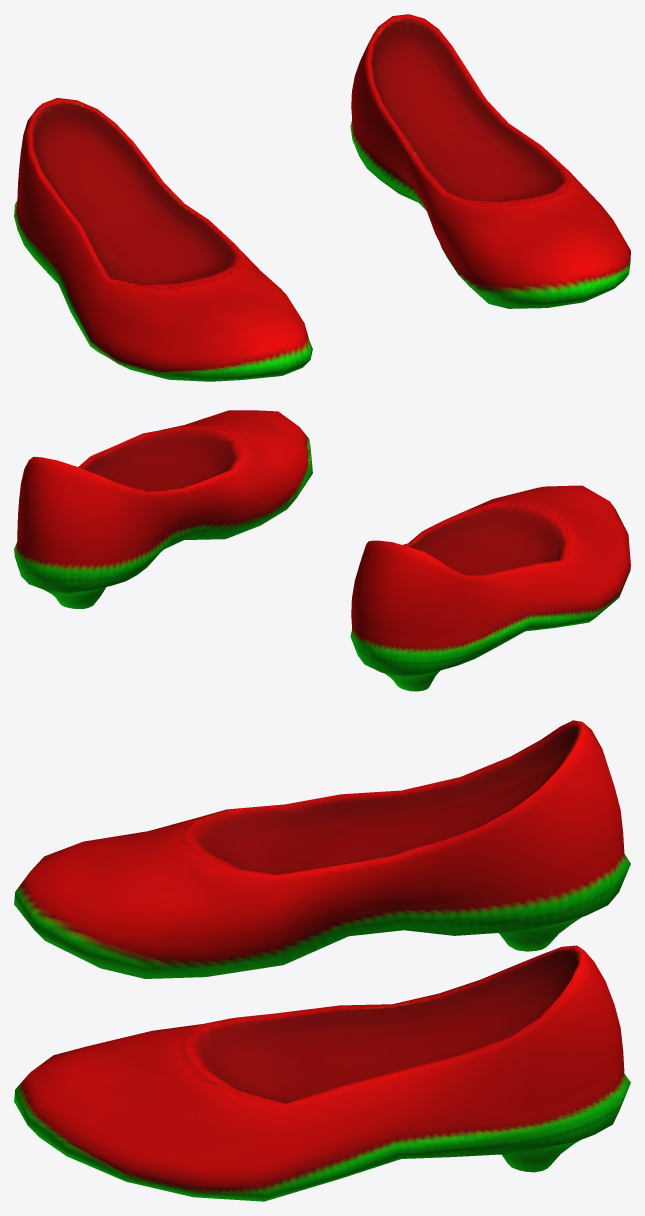
File: Feet_OfficeHeels.obj
3 views of the same model, one above another, from view 1: azimuth 30°, elevation 25°; view 2: azimuth 150°, elevation 25°; view 3: azimuth 270°, elevation 25° (orthographic). The views are drawn at different scales.
Visible parts, largest first — view 1: Feet_OfficeHeels_0; view 2: Feet_OfficeHeels_0; view 3: Feet_OfficeHeels_0.
Boxes of the visible parts, bbox=[...] form: Feet_OfficeHeels_0: bbox=[14, 14, 630, 381]; Feet_OfficeHeels_0: bbox=[14, 410, 630, 691]; Feet_OfficeHeels_0: bbox=[14, 720, 630, 1201].
Size of the model in its own units: 0.3449 by 0.1024 by 0.2706.
1 material, 1 textured.
